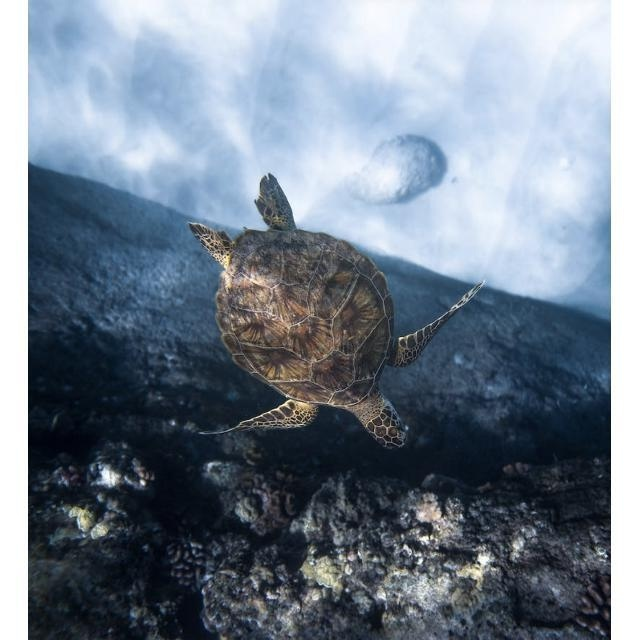turtle: (185, 174, 486, 449)
